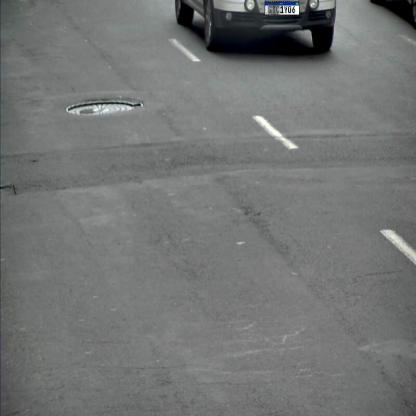PlacaM: (264, 2, 300, 16)
